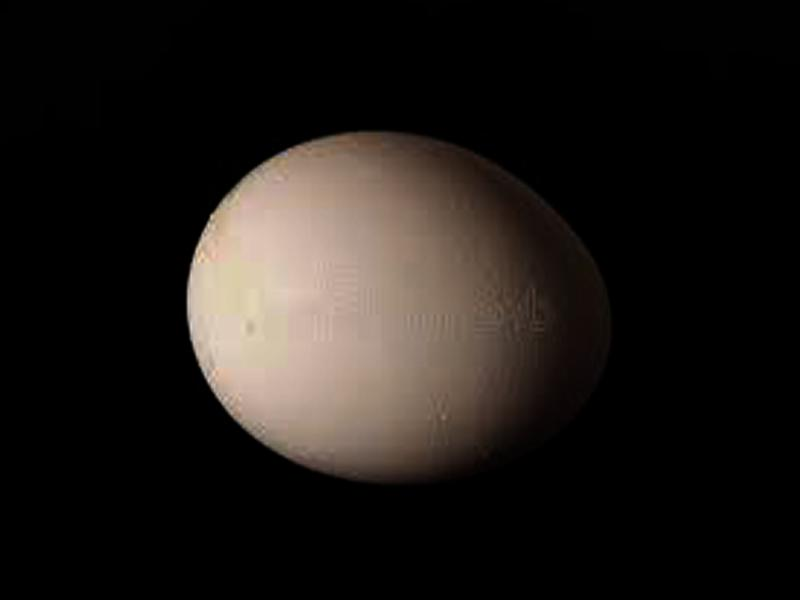Eggs: (182, 131, 610, 482)
